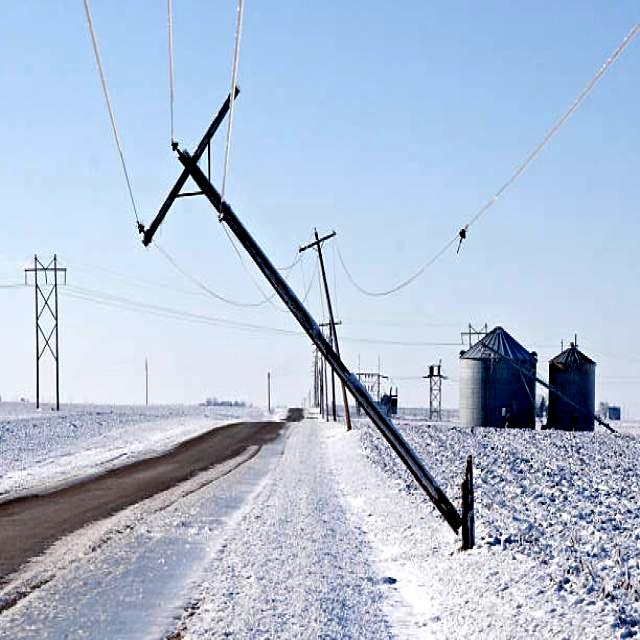Broken Pole: (124, 79, 477, 562)
